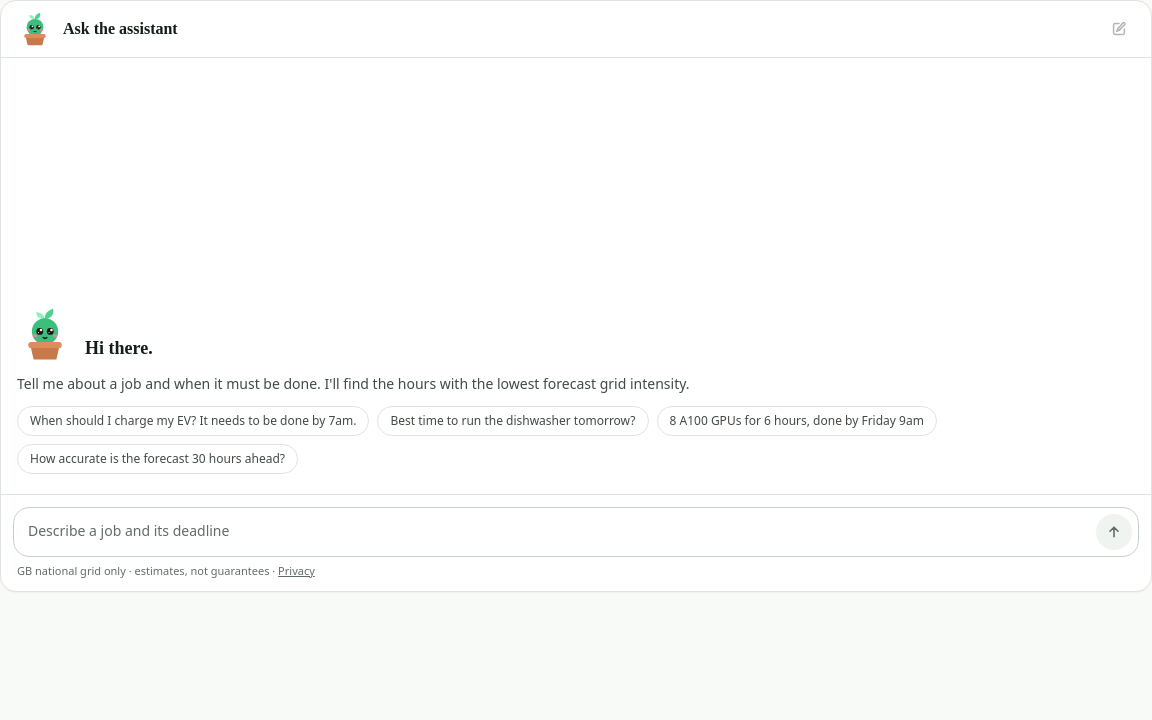
Scenario: ChatPanel › renders bold and lists in the answer
The width and height of the screenshot is (1152, 720).
Type "go" into the text box named "Message to the assistant".
click(558, 532); type("go")  # box [28,514,1088,550]
Then press Enter
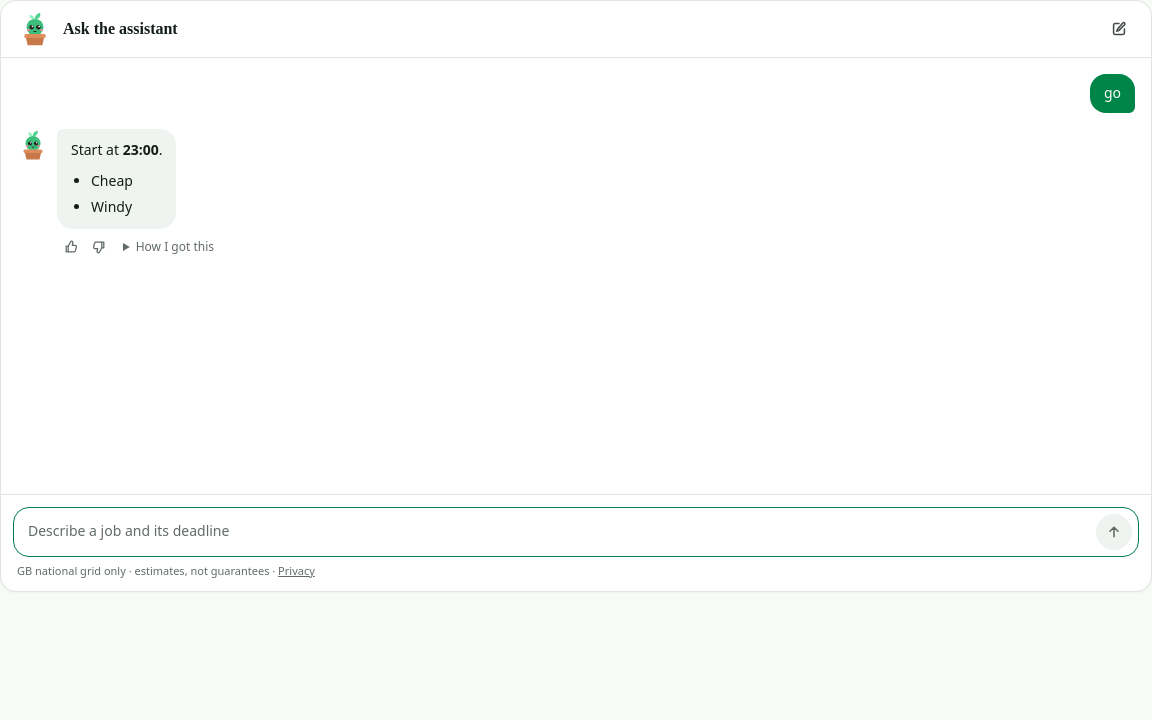
Check: the number of list items is 2, box [91,170,133,190]; [91,197,132,216]
